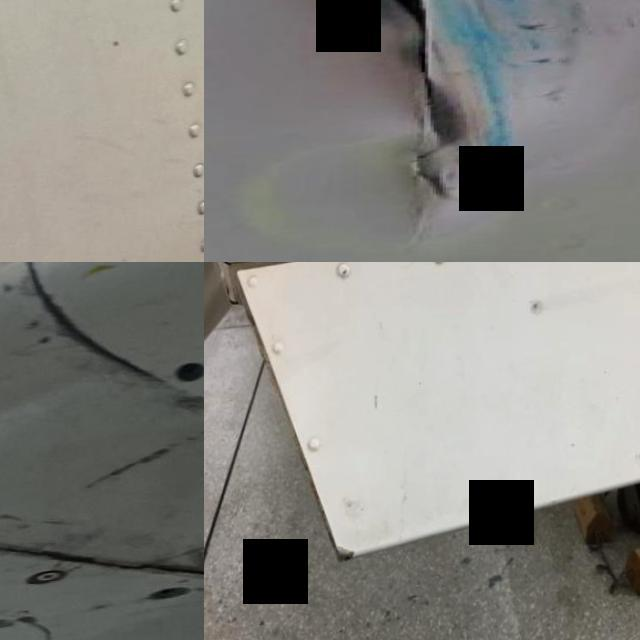Crack: (204, 0, 640, 262), (332, 522, 364, 568), (524, 292, 548, 329), (372, 384, 384, 416)
Missing_Fastener: (142, 588, 198, 614), (173, 366, 204, 396)
